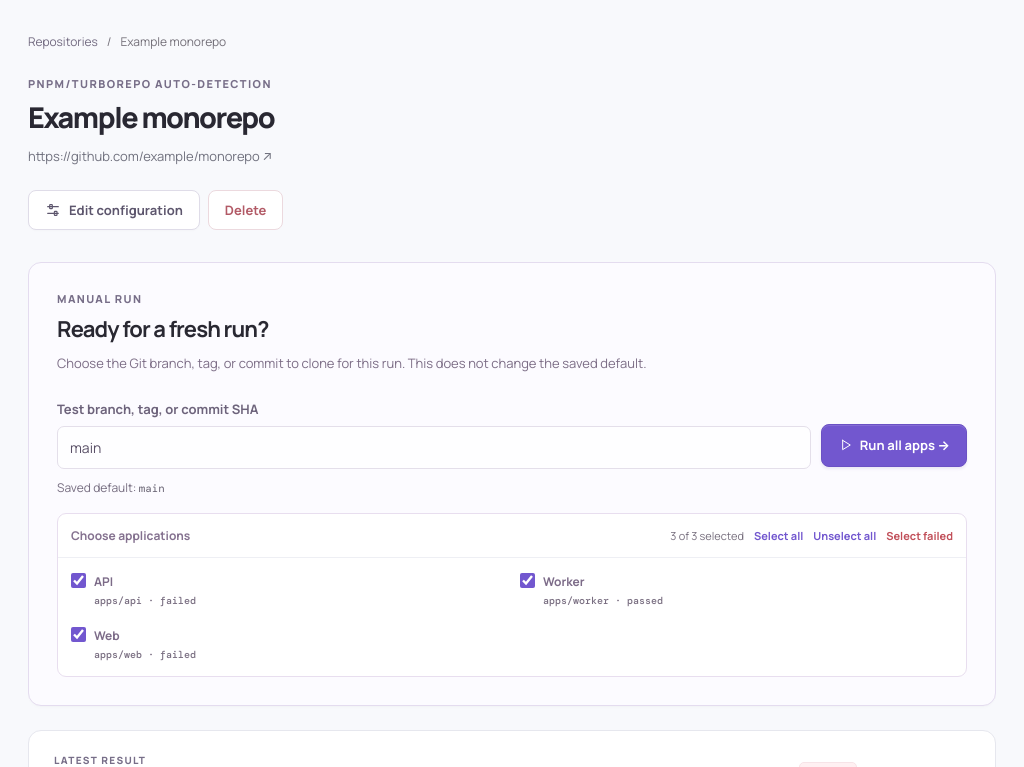
repository app selection › selects only apps that failed in the latest run
This screenshot has width=1024, height=767.
Check: the text "3 of 3 selected" is shown, box 670,528 -> 744,543
Click the button "Select failed".
click(920, 536)  # box 886,525 -> 953,546
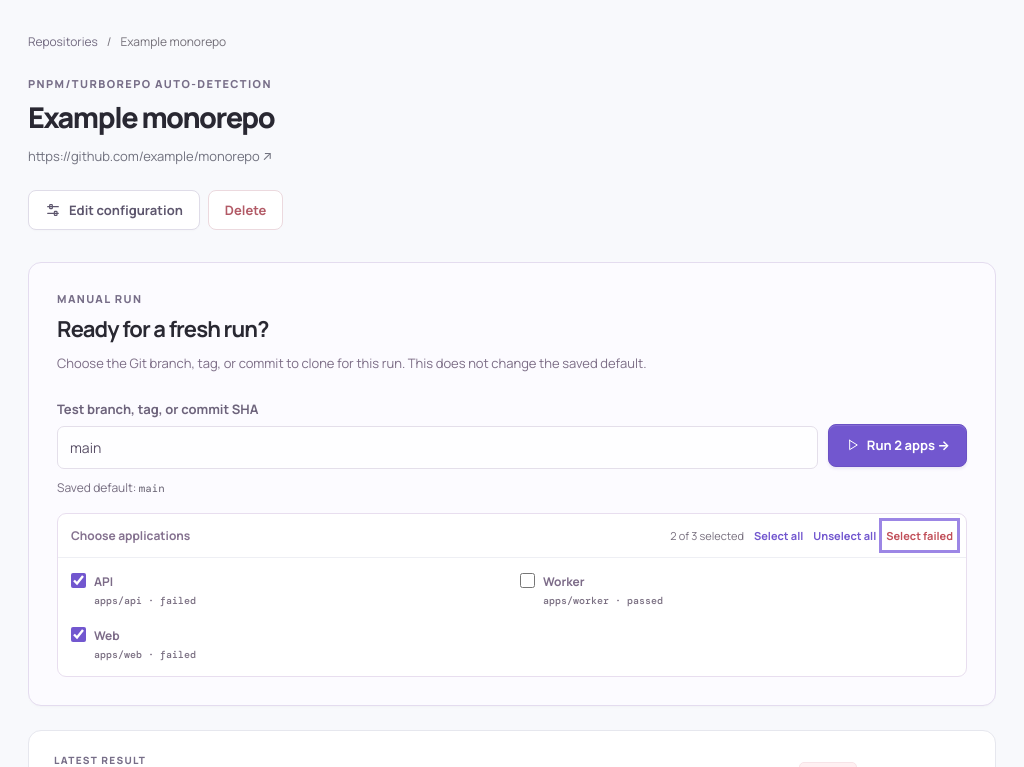
Check: the text "2 of 3 selected" is shown, box 670,528 -> 744,543
